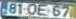1: (16, 2, 22, 15)
6: (51, 4, 61, 17)
7: (61, 5, 70, 17)
8: (8, 2, 17, 14)
E: (37, 3, 47, 16)
O: (26, 2, 37, 15)
